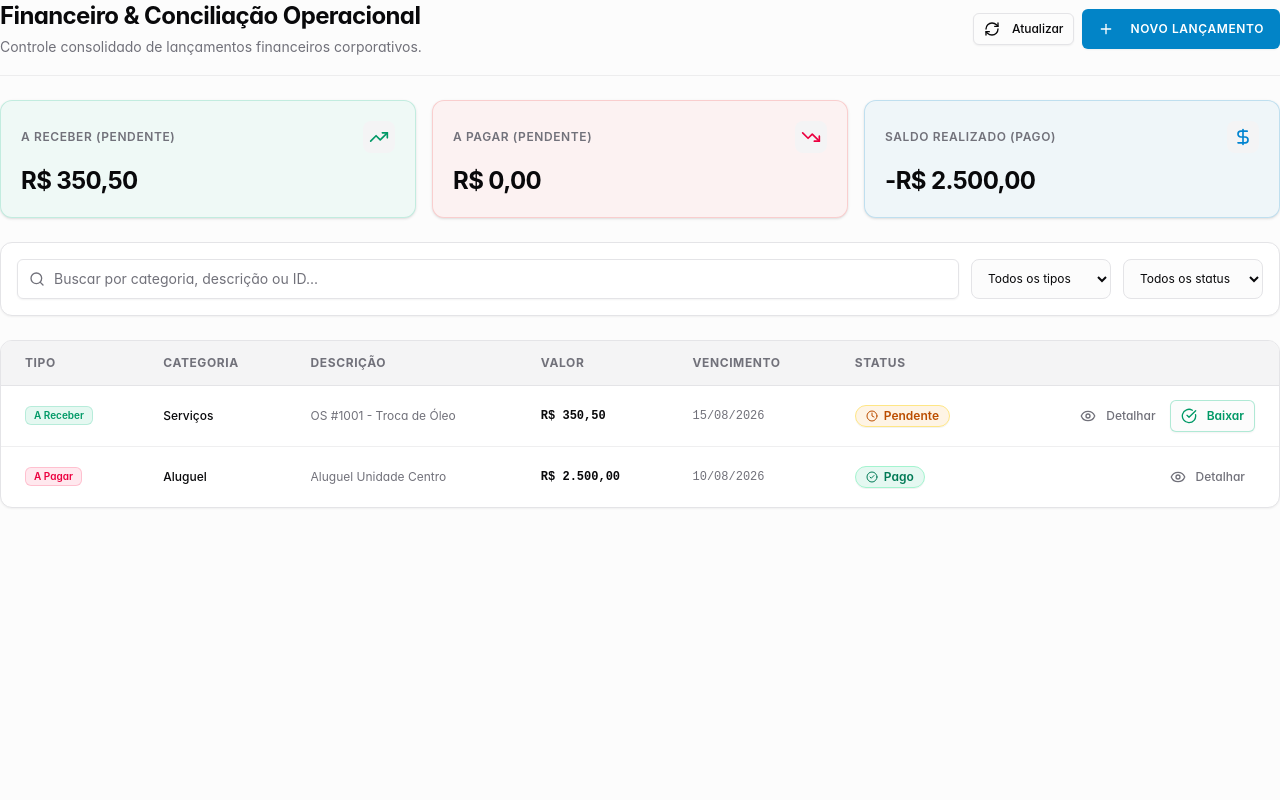
Scenario: Financial Module (Integrated Management) › 6. should open confirmation dialog for payment download (Baixar)
Click the button "Baixar".
click(1212, 416)  # box [1170,400,1255,432]
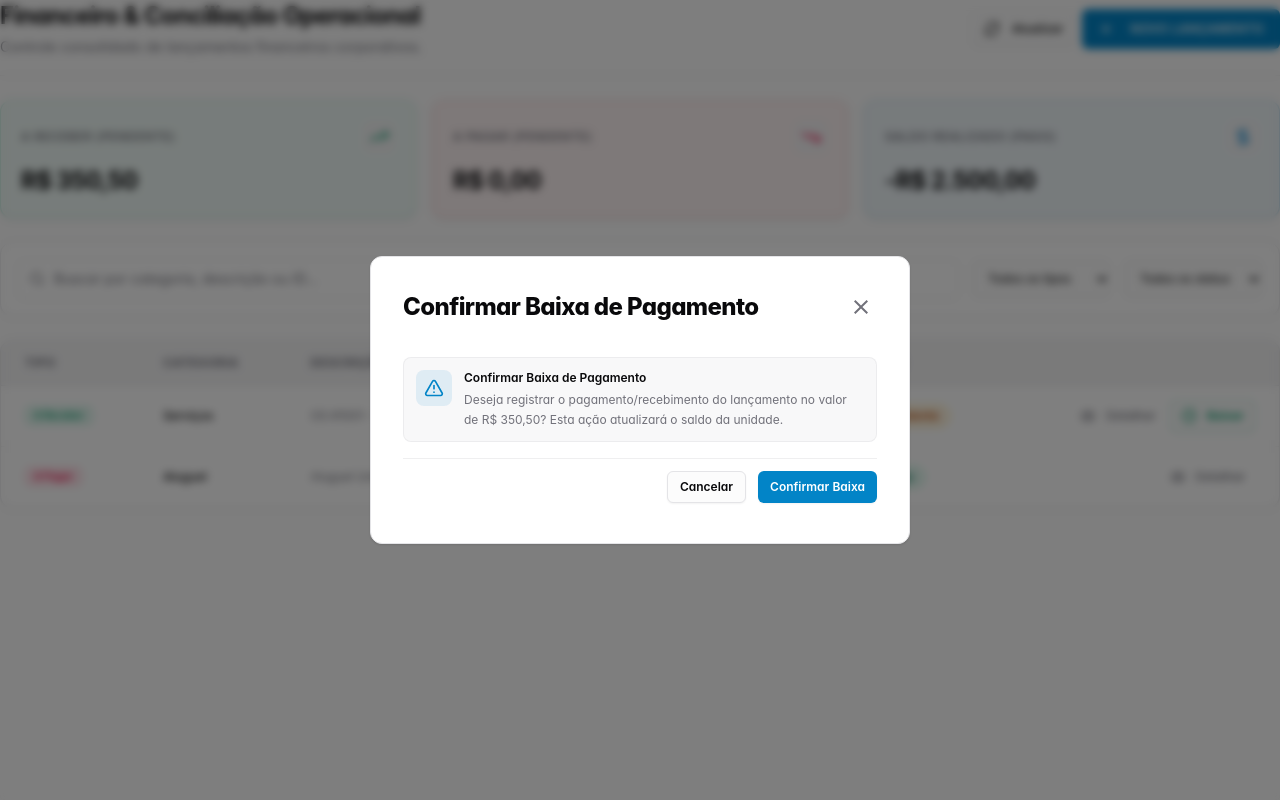
Expected: the heading "Confirmar Baixa de Pagamento" is shown, [403,289,759,325]
